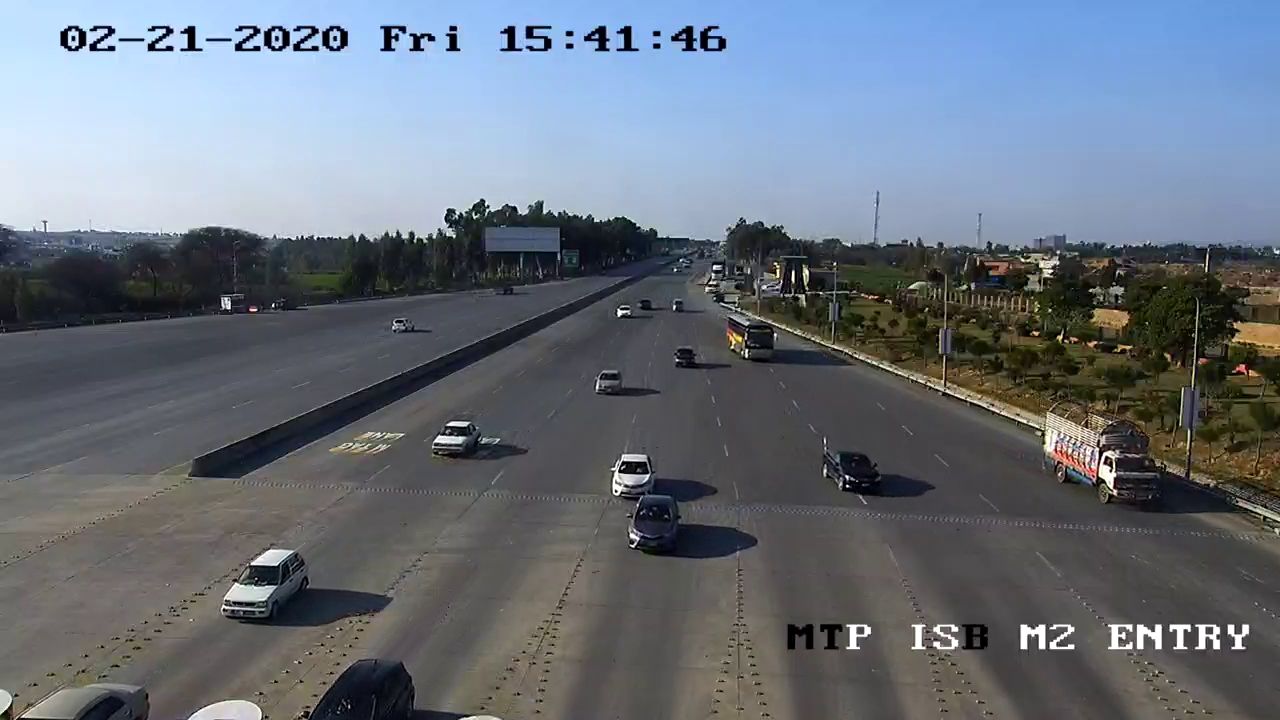f1: (214, 538, 317, 634), (622, 486, 688, 569), (814, 438, 886, 501), (595, 444, 660, 497), (426, 411, 485, 460)
f5: (1034, 398, 1166, 517)
